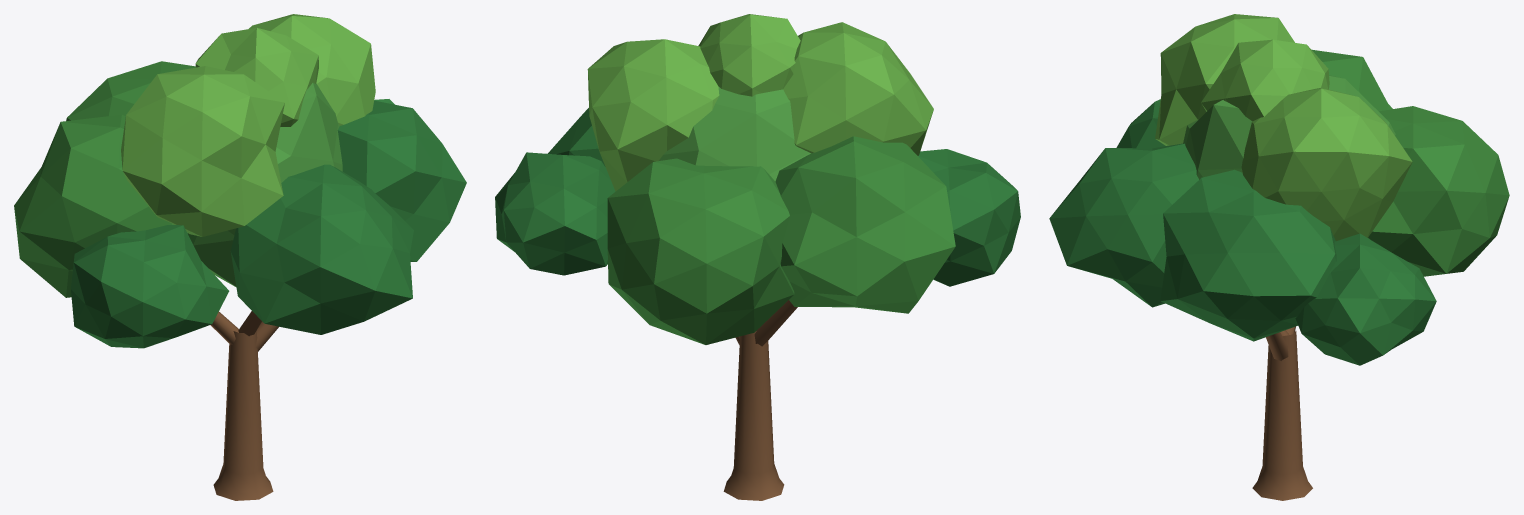
The model's file is arvore-frondosa.glb.
3 views of the same model, side by side, from view 1: azimuth 30°, elevation 25°; view 2: azimuth 150°, elevation 25°; view 3: azimuth 270°, elevation 25° (orthographic). The views are drawn at different scales.
Visible parts, largest first — view 1: Copa, Tronco; view 2: Copa, Tronco; view 3: Copa, Tronco.
Boxes of the visible parts, x1=… form: Copa: x1=14, y1=14, x2=466, y2=348; Tronco: x1=210, y1=311, x2=278, y2=500; Copa: x1=495, y1=14, x2=1020, y2=344; Tronco: x1=723, y1=300, x2=797, y2=500; Copa: x1=1049, y1=14, x2=1509, y2=365; Tronco: x1=1252, y1=326, x2=1312, y2=500.
Size of the model in its own units: 10.03 by 10.34 by 9.53.
